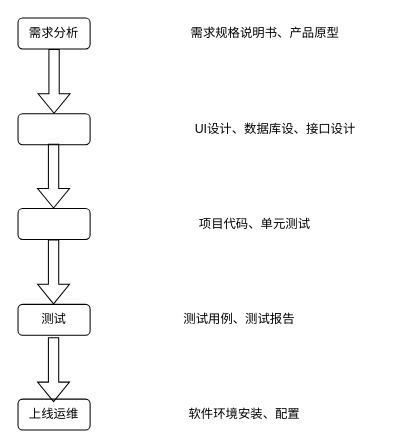
This 407x448 diagram has some shape labels left out. The box of each missing label's shape, as (x1, y1, x2, y2) in pixels:
编码: (17, 208, 90, 239)
设计: (17, 113, 90, 145)
